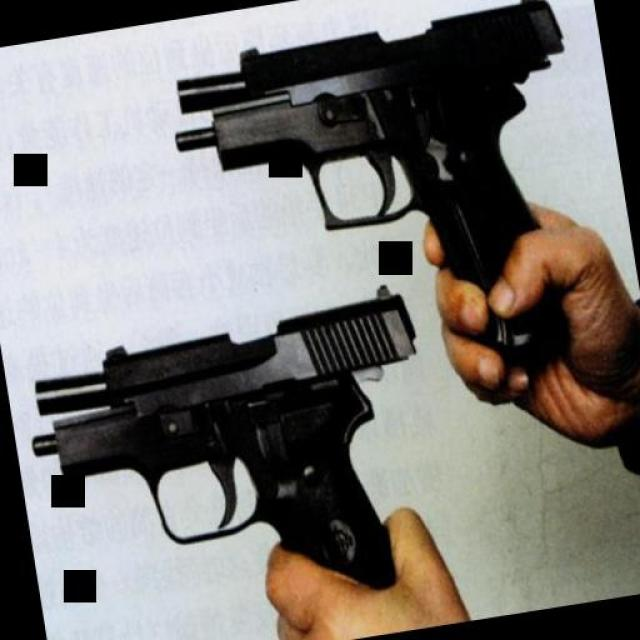gun: (158, 0, 614, 414), (10, 279, 452, 640)
